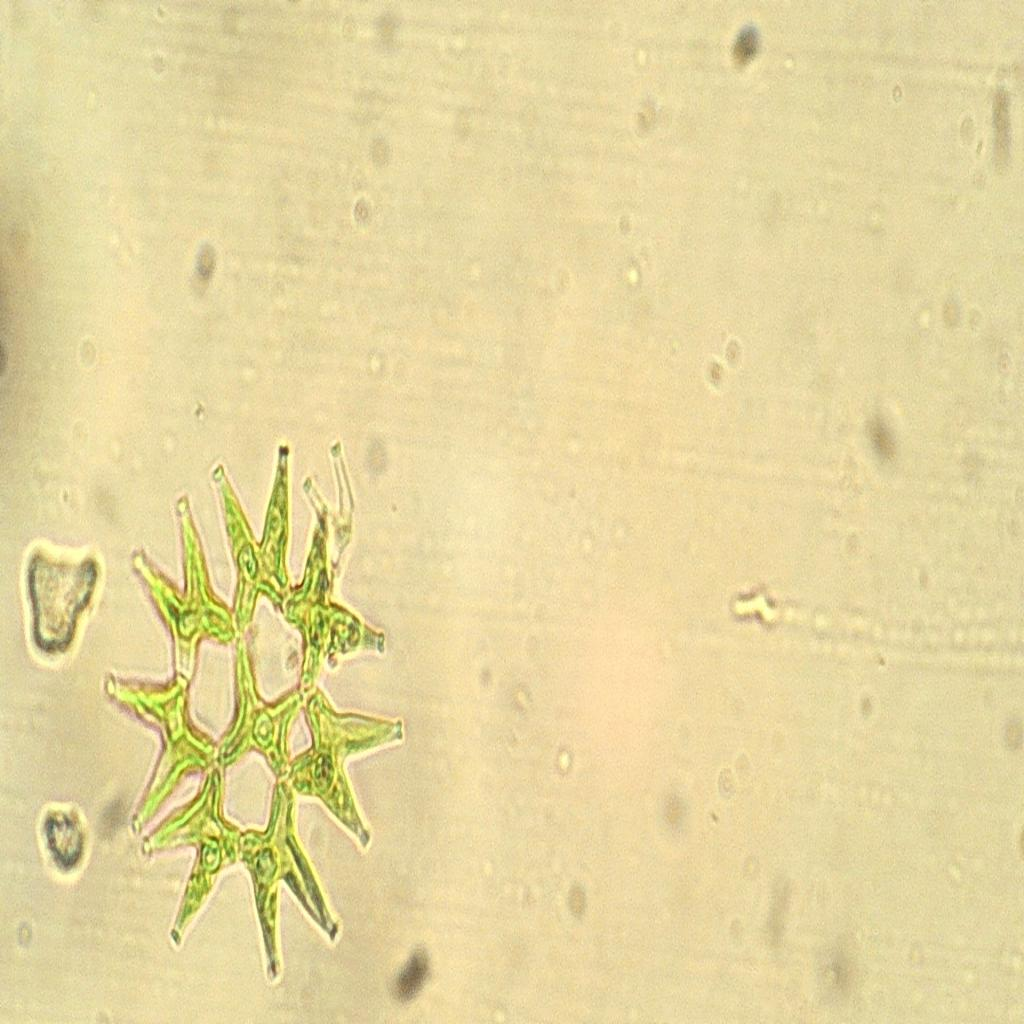Pediastrum_1T: (94, 408, 412, 984)
